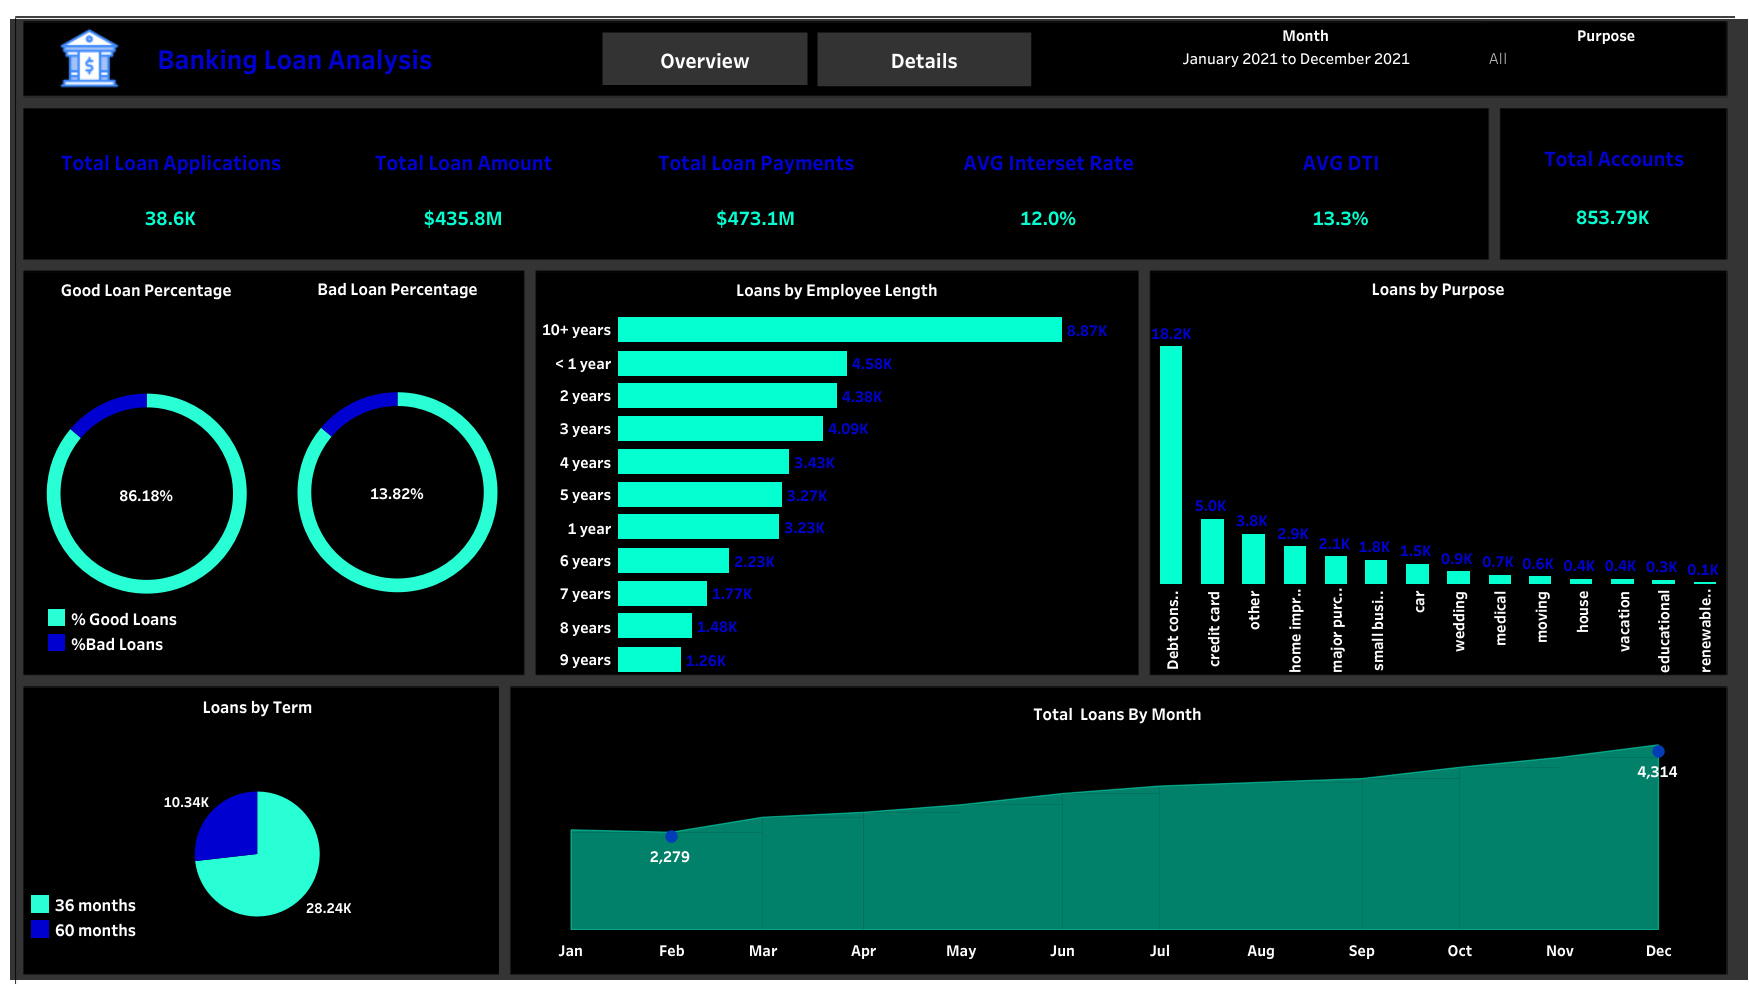

Layout of this report page (visuals, bound fields, positions):
{"tool":"tableau","page":{"name":"Overview","canvas":[1400,800],"ordinal":1},"visuals":[{"type":"image","param":"Image/HR background.png","box":[8,8,1384,784]},{"type":"text","box":[19,15,454,62]},{"type":"filter","title":"Loans by Month","param":"[federated.0tqnj1k01054us15jw4jw1k3xr4j].[tmn:issue_date:qk]","box":[943,18,203,59]},{"type":"filter","title":"Loans by Purpose","param":"[federated.0tqnj1k01054us15jw4jw1k3xr4j].[none:purpose:nk]","box":[1189,18,192,56]},{"type":"image","param":"Image/8473577.png","box":[47,22,52,49]},{"type":"dashboard-object","box":[482,26,164,42]},{"type":"dashboard-object","box":[654,26,171,43]},{"type":"worksheet","title":"KPIs","mark":"Text","box":[20,86,1170,120]},{"type":"worksheet","title":"Total Acc","mark":"Text","box":[1201,109,181,90]},{"type":"worksheet","title":"Bad Loan Applications","mark":"Pie","rows":["Calculation_894808957647745042","Calculation_894808957647777811"],"box":[216,215,204,324]},{"type":"worksheet","title":"Loans by Purpose","mark":"Automatic","rows":["Calculation_1921066722022273024"],"cols":["purpose"],"box":[921,215,459,324]},{"type":"worksheet","title":"Good Loan Applications","mark":"Pie","rows":["Calculation_894808957647745042","Calculation_894808957647777811"],"box":[22,216,190,323]},{"type":"worksheet","title":"Loans by Employee Length","mark":"Automatic","rows":["emp_length"],"cols":["Calculation_1921066722022273024"],"box":[430,216,479,324]},{"type":"legend","title":"Good Loan Applications","param":"[federated.0tqnj1k01054us15jw4jw1k3xr4j].[:Measure Names]","box":[35,484,364,50]},{"type":"worksheet","title":"Loans by Term ","mark":"Pie","box":[17,549,378,234]},{"type":"worksheet","title":"Loans by Month","mark":"Area","rows":["Calculation_1921066722022273024","Calculation_894808957622792195"],"cols":["issue_date"],"box":[413,555,962,219]},{"type":"legend","title":"Loans by Term ","param":"[federated.0tqnj1k01054us15jw4jw1k3xr4j].[none:term:nk]","box":[22,713,140,64]}]}

Visuals, with their boxes in screenshot pixels (x1, y1, x2, y2), scaled from the page's 1400x800 canvas onto the 1749x999 screenshot:
image: (left=10, top=10, right=1739, bottom=989)
text: (left=24, top=19, right=591, bottom=96)
"Loans by Month" filter: (left=1178, top=22, right=1432, bottom=96)
"Loans by Purpose" filter: (left=1485, top=22, right=1725, bottom=92)
image: (left=59, top=27, right=124, bottom=89)
dashboard-object: (left=602, top=32, right=807, bottom=85)
dashboard-object: (left=817, top=32, right=1031, bottom=86)
"KPIs" worksheet (Text marks): (left=25, top=107, right=1487, bottom=257)
"Total Acc" worksheet (Text marks): (left=1500, top=136, right=1727, bottom=249)
"Bad Loan Applications" worksheet (Pie marks): (left=270, top=268, right=525, bottom=673)
"Loans by Purpose" worksheet: (left=1151, top=268, right=1724, bottom=673)
"Good Loan Applications" worksheet (Pie marks): (left=27, top=270, right=265, bottom=673)
"Loans by Employee Length" worksheet: (left=537, top=270, right=1136, bottom=674)
"Good Loan Applications" legend: (left=44, top=604, right=498, bottom=667)
"Loans by Term " worksheet (Pie marks): (left=21, top=686, right=493, bottom=978)
"Loans by Month" worksheet (Area marks): (left=516, top=693, right=1718, bottom=967)
"Loans by Term " legend: (left=27, top=890, right=202, bottom=970)
